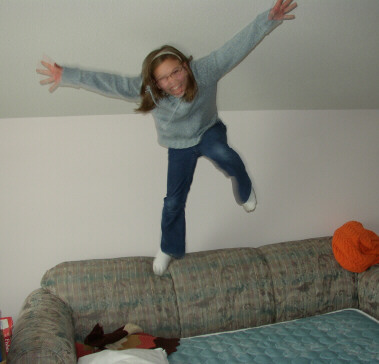person: (38, 1, 300, 278)
